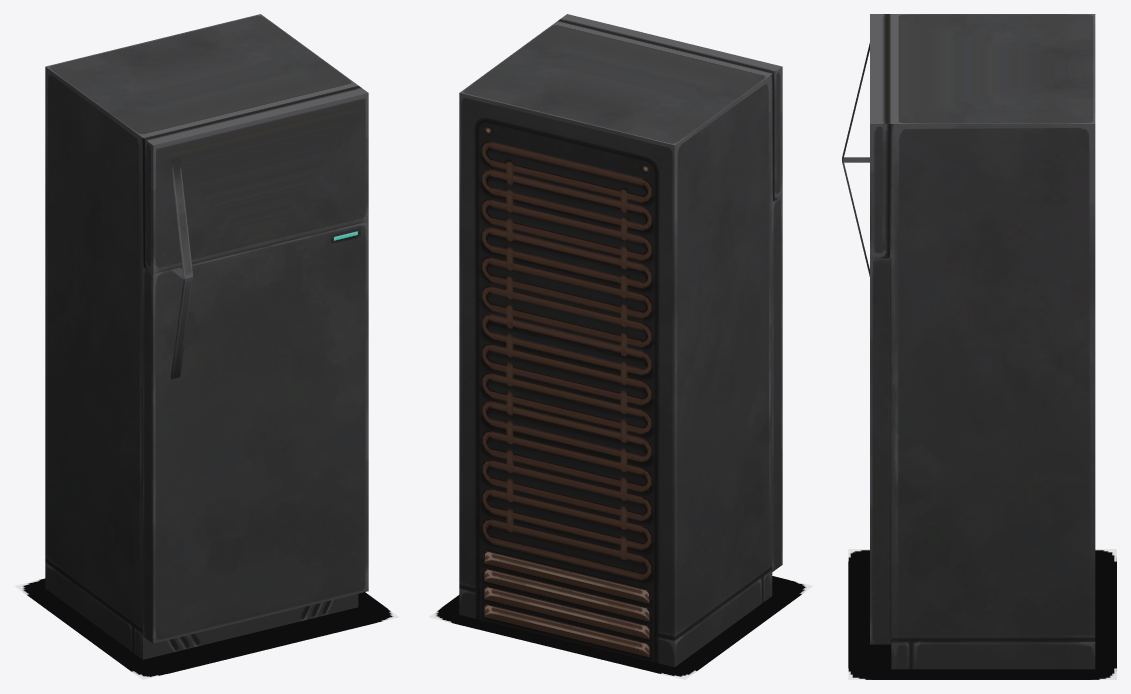
File: jj_ty_bingxiang02.FBX
3 renders of one model, left to right at view 1: azimuth 30°, elevation 25°; view 2: azimuth 150°, elevation 25°; view 3: azimuth 270°, elevation 25°, orthographic. The views are drawn at different scales.
Parts seen in each view (by area): view 1: jj_ty_bingxiang02, shadow; view 2: jj_ty_bingxiang02, shadow; view 3: jj_ty_bingxiang02, shadow.
Part boxes in pixels (<box>): jj_ty_bingxiang02: <box>45,14,368,659</box>; shadow: <box>15,578,398,679</box>; jj_ty_bingxiang02: <box>459,14,782,667</box>; shadow: <box>429,576,812,679</box>; jj_ty_bingxiang02: <box>842,14,1095,669</box>; shadow: <box>848,549,1116,679</box>.
Bounding box in the file's own units: 36.4 × 71.16 × 32.27.
